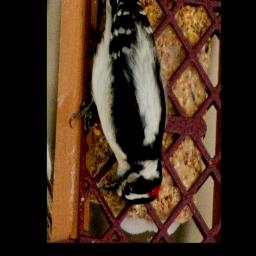Woodpecker: (69, 0, 165, 204)
